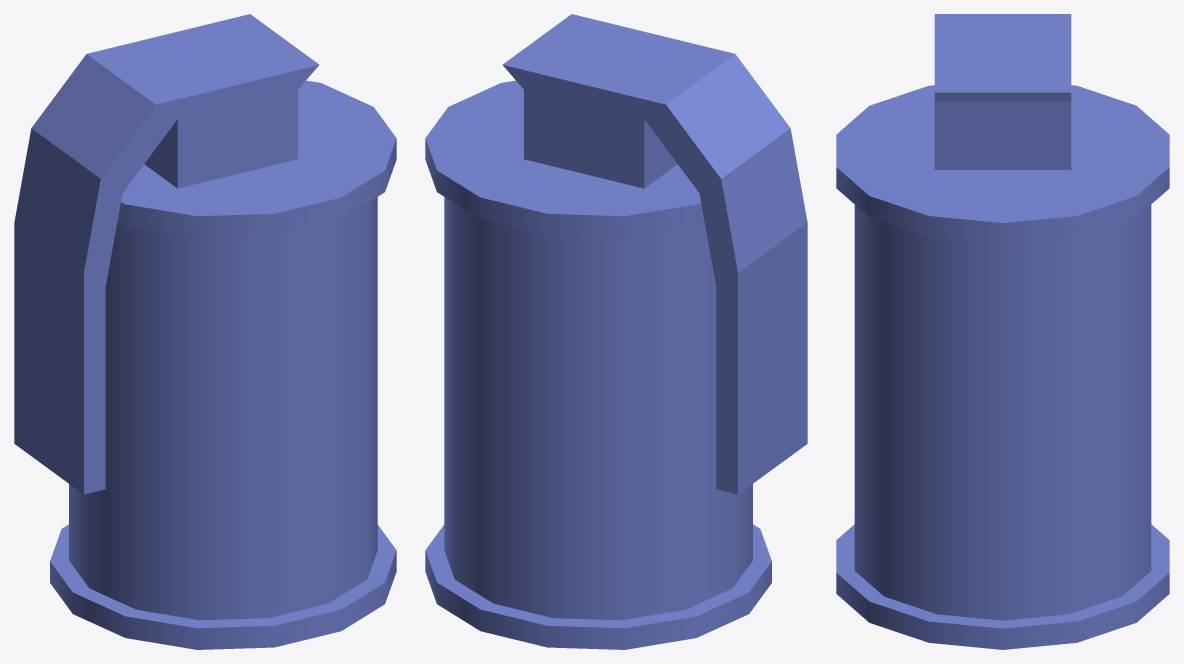
File: bombaApestosa.fbx
3 renders of one model, left to right at view 1: azimuth 30°, elevation 25°; view 2: azimuth 150°, elevation 25°; view 3: azimuth 270°, elevation 25°, orthographic.
Visible parts, largest first — view 1: bombaApestosa; view 2: bombaApestosa; view 3: bombaApestosa.
Part boxes in pixels (x1,y1,x2,y2): bombaApestosa: [14, 14, 396, 649]; bombaApestosa: [425, 14, 807, 649]; bombaApestosa: [836, 14, 1169, 649].
Size of the model in its own units: 0.2188 by 0.3369 by 0.1978.
